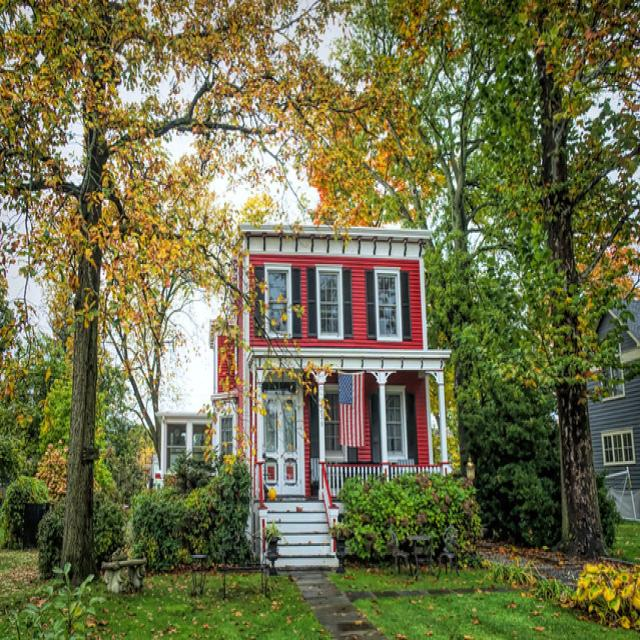building: (148, 221, 453, 573)
